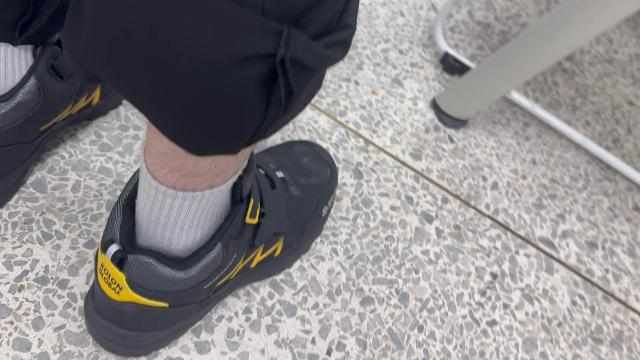shoe_worn: (84, 138, 338, 354), (3, 16, 128, 202)
